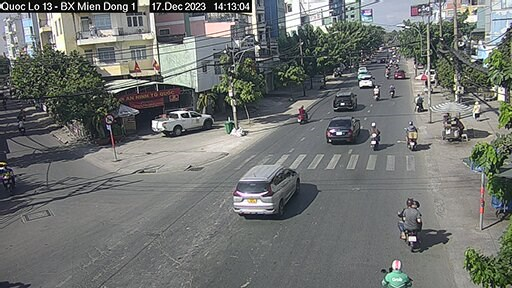car: (232, 159, 299, 222), (152, 108, 215, 138), (323, 117, 360, 147), (332, 89, 357, 114), (359, 73, 375, 91)
motorbike: (397, 198, 424, 248), (400, 119, 422, 152), (367, 118, 381, 151), (293, 102, 311, 127), (374, 84, 383, 100), (391, 85, 396, 102)
